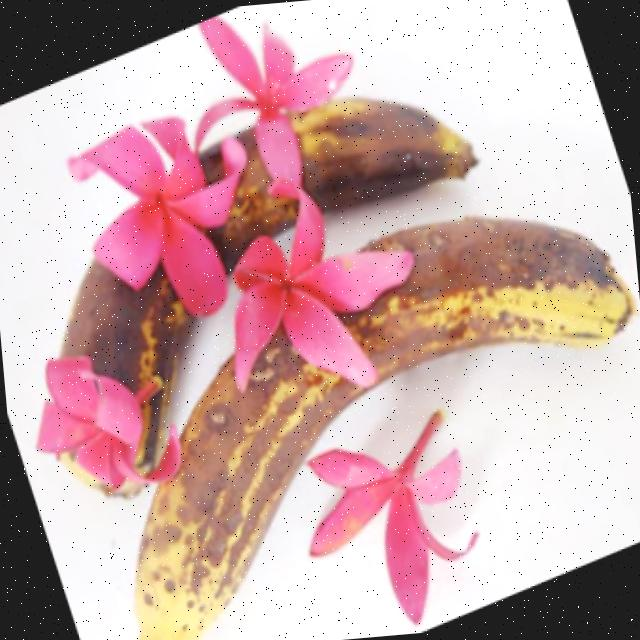rotten banana: (57, 172, 640, 640), (24, 62, 480, 480)
